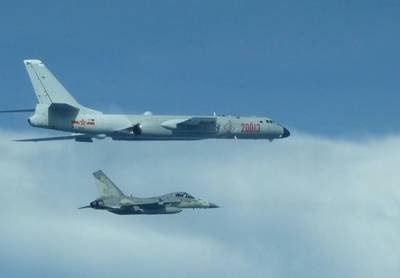airplane: (1, 55, 292, 144), (76, 172, 220, 216)
